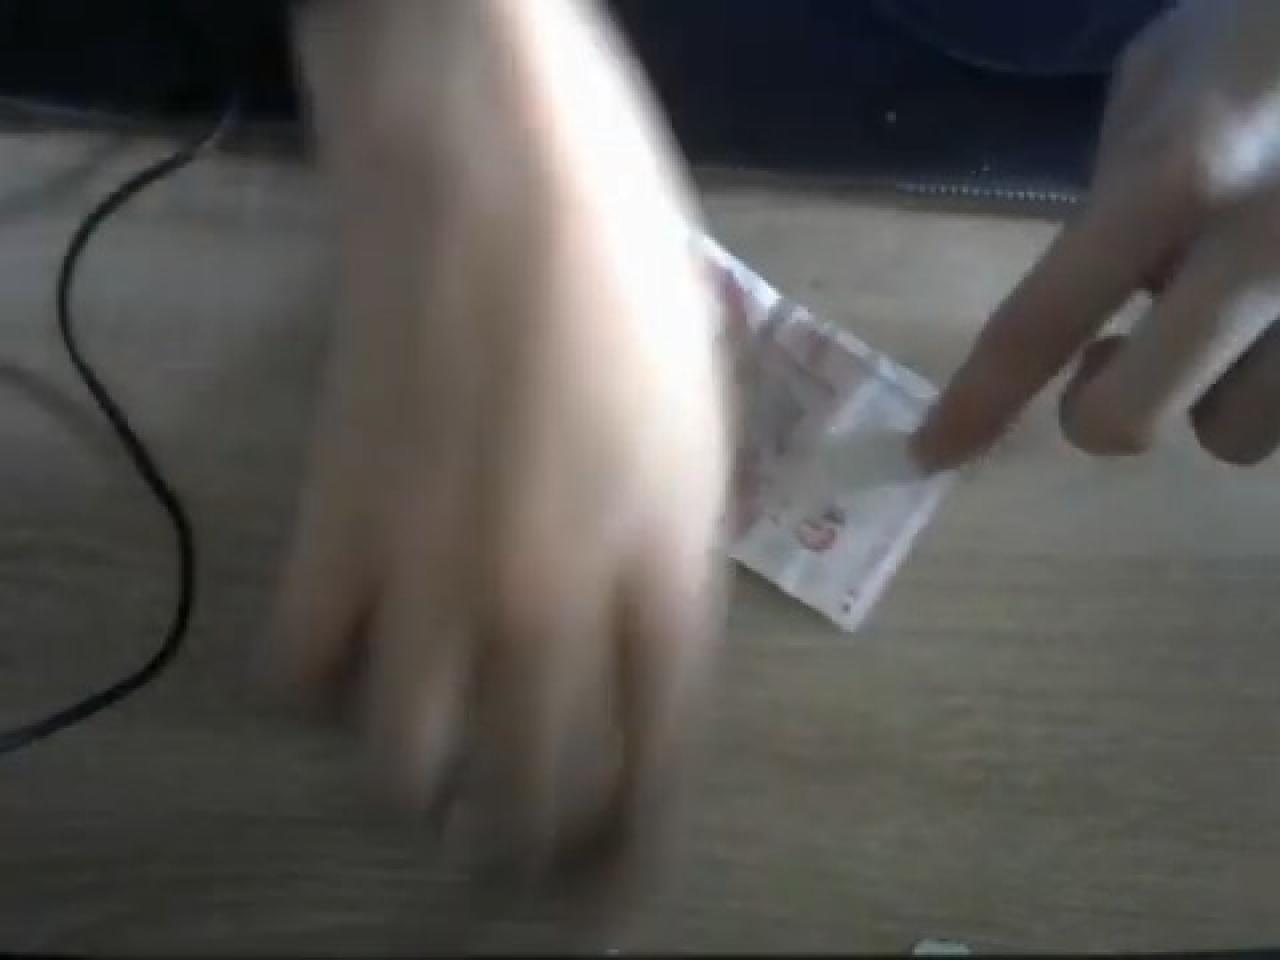5leva: (726, 277, 957, 632)
